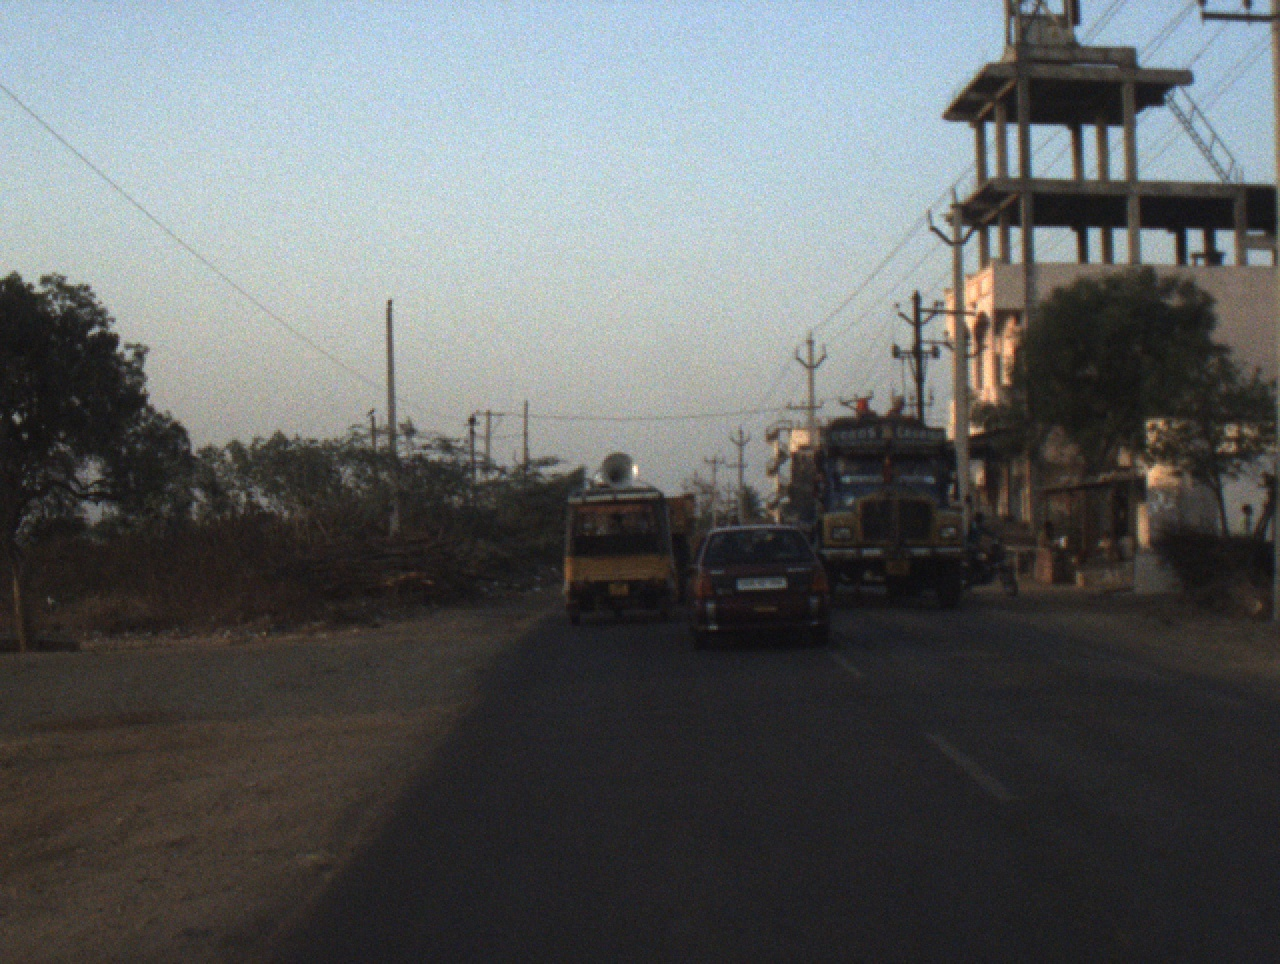autorickshaw: (554, 447, 681, 627)
car: (683, 523, 836, 656)
motorcycle: (958, 534, 1023, 602)
person: (1038, 517, 1073, 557), (1092, 525, 1115, 569), (1232, 498, 1256, 540)
rider: (962, 507, 993, 588)
truck: (796, 394, 969, 616)
vehicle fallback: (663, 492, 704, 594)
